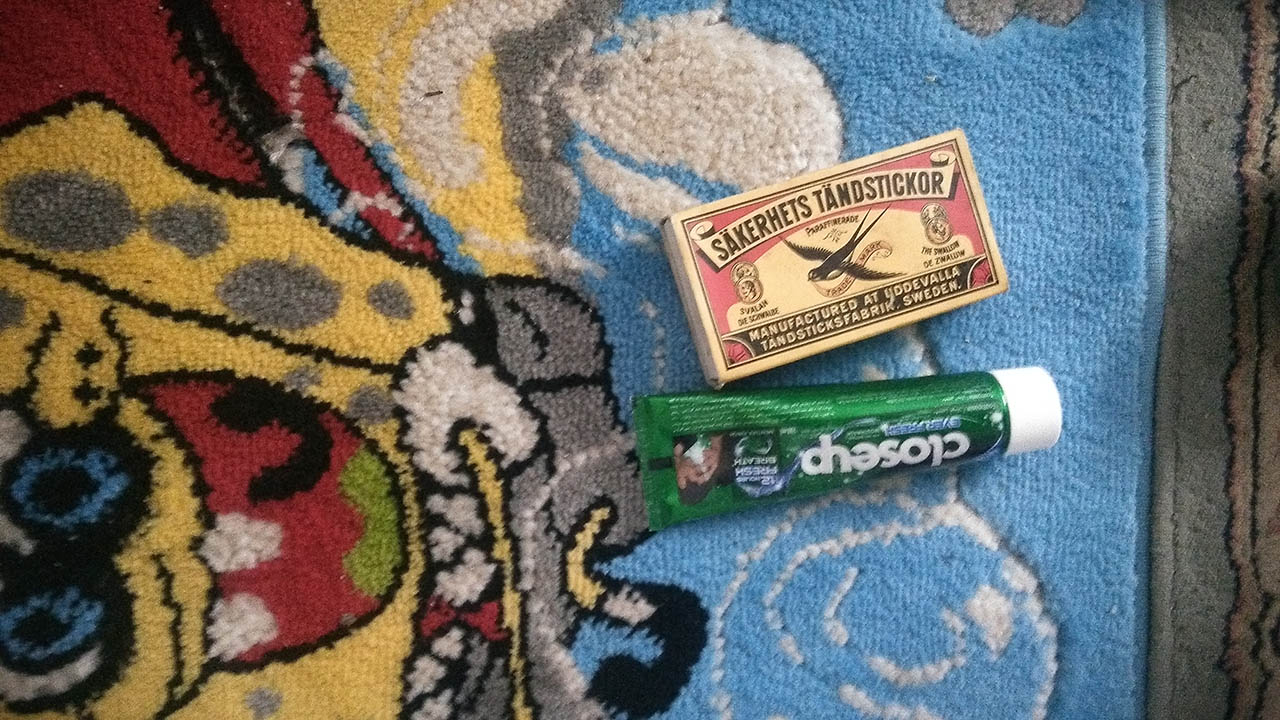Toothpaste-Closeup 3.04$: (640, 365, 1072, 523)
match-sticks .90$: (630, 91, 1043, 374)
